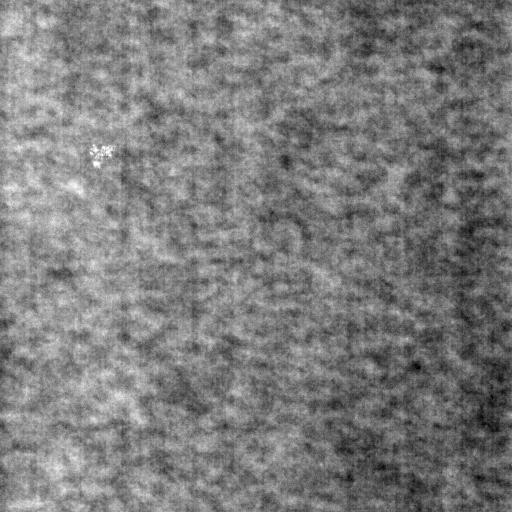stain: (84, 140, 120, 168)
